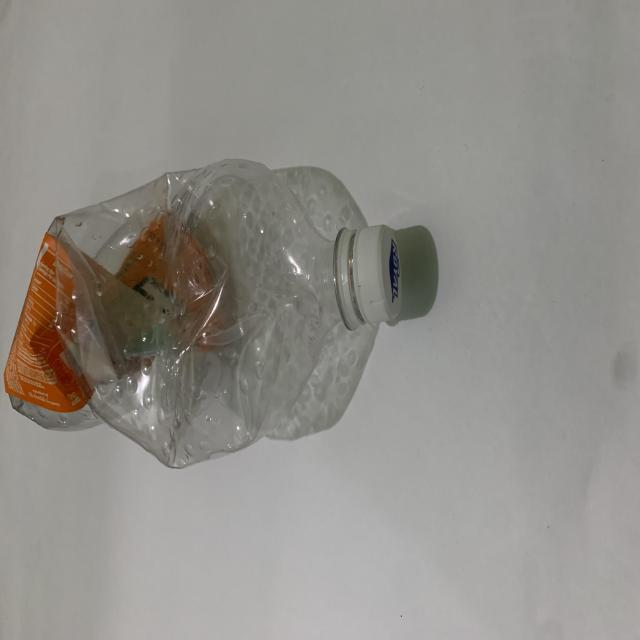bottle: (1, 103, 442, 508)
